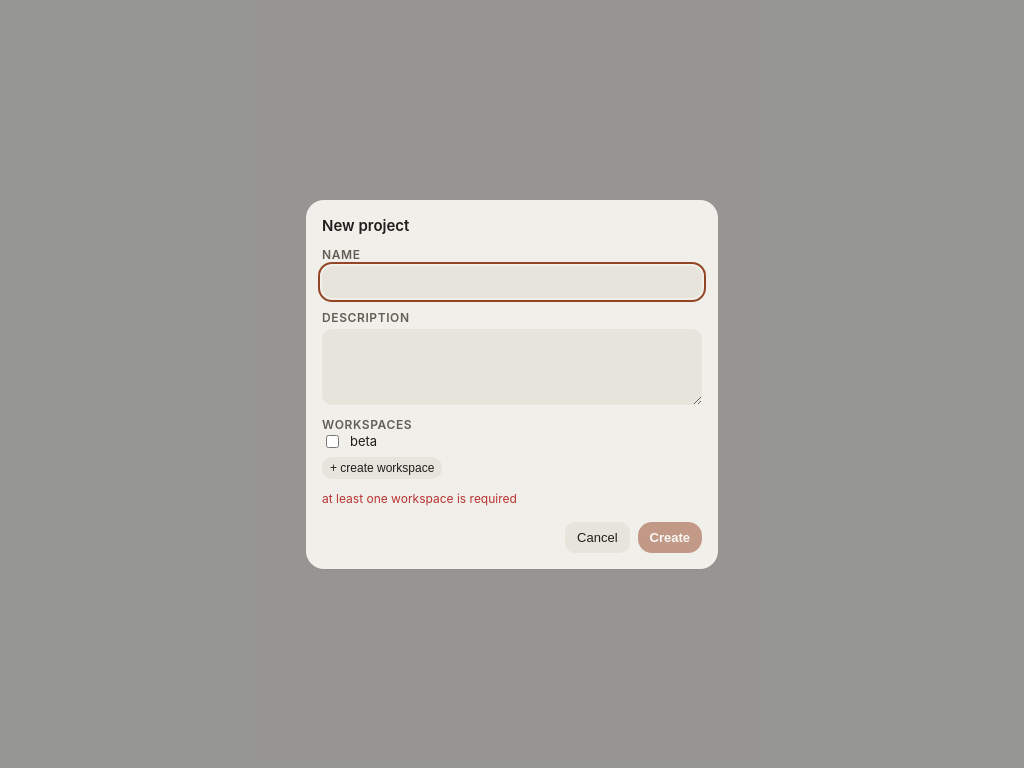
Test: CreateProjectDialog › a failed create shows the mapped error via a toast and keeps the dialog open
Type "New Proj" into the field with test id "create-project-name". click: [512, 282]
box: [322,266,702,298]
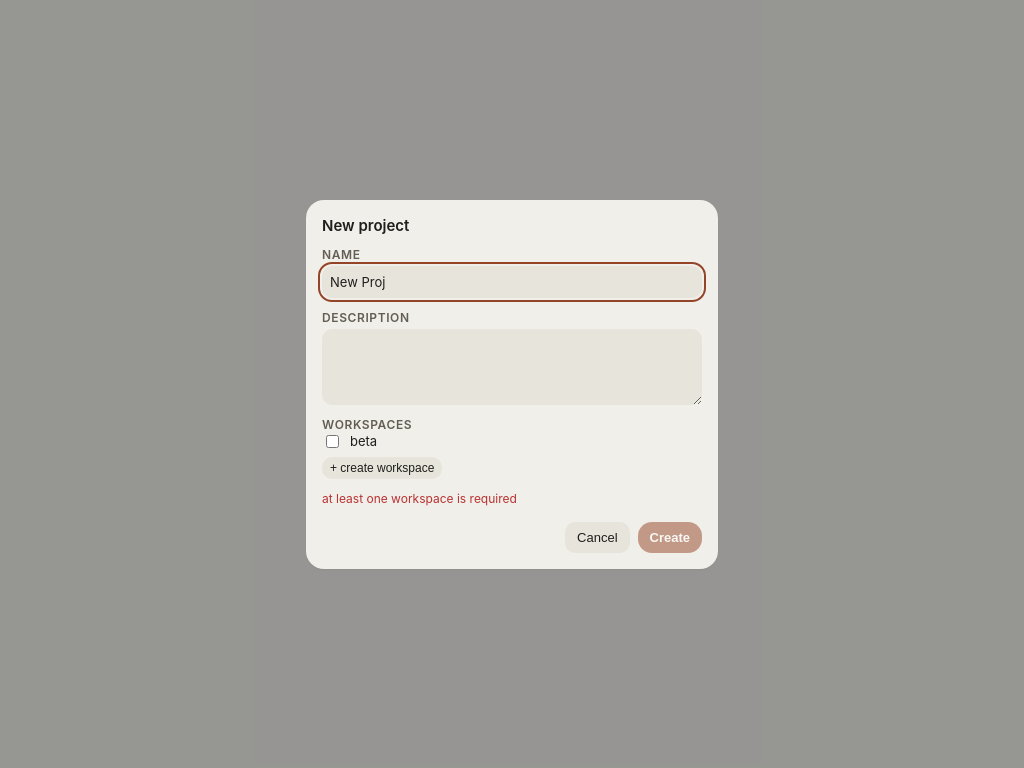
Click the checkbox with test id "create-project-ws-w2". click: [332, 441]
box: [326,434,339,448]
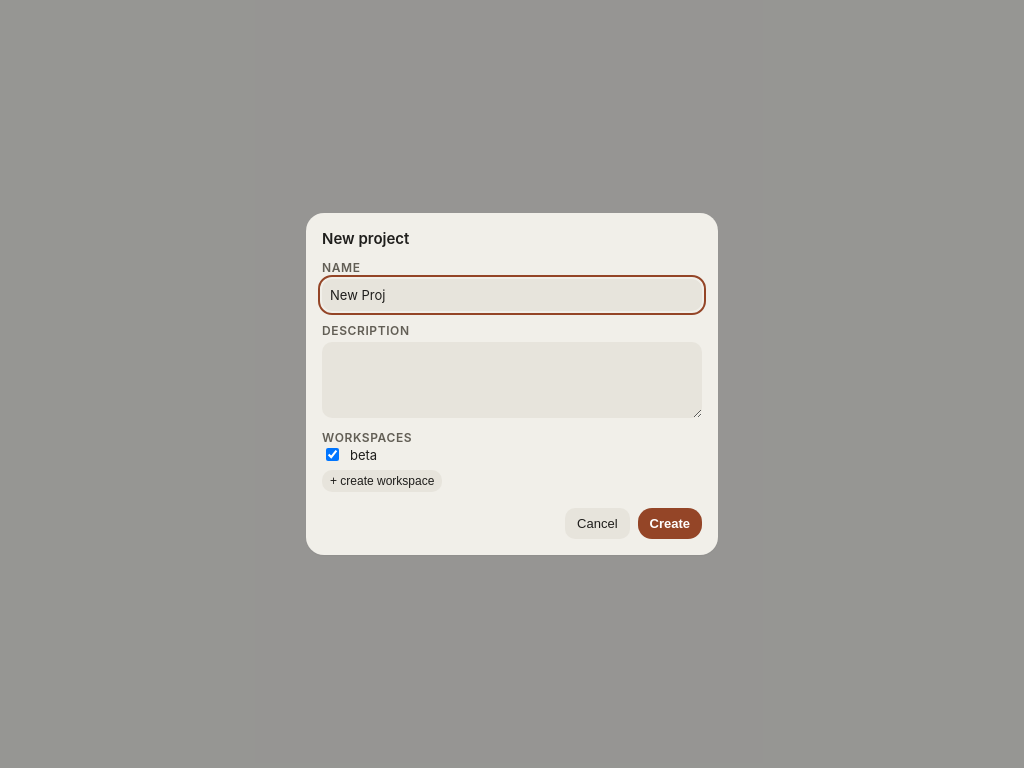
Click the button with test id "create-project-submit". click: [670, 524]
box: [638,508,702,539]
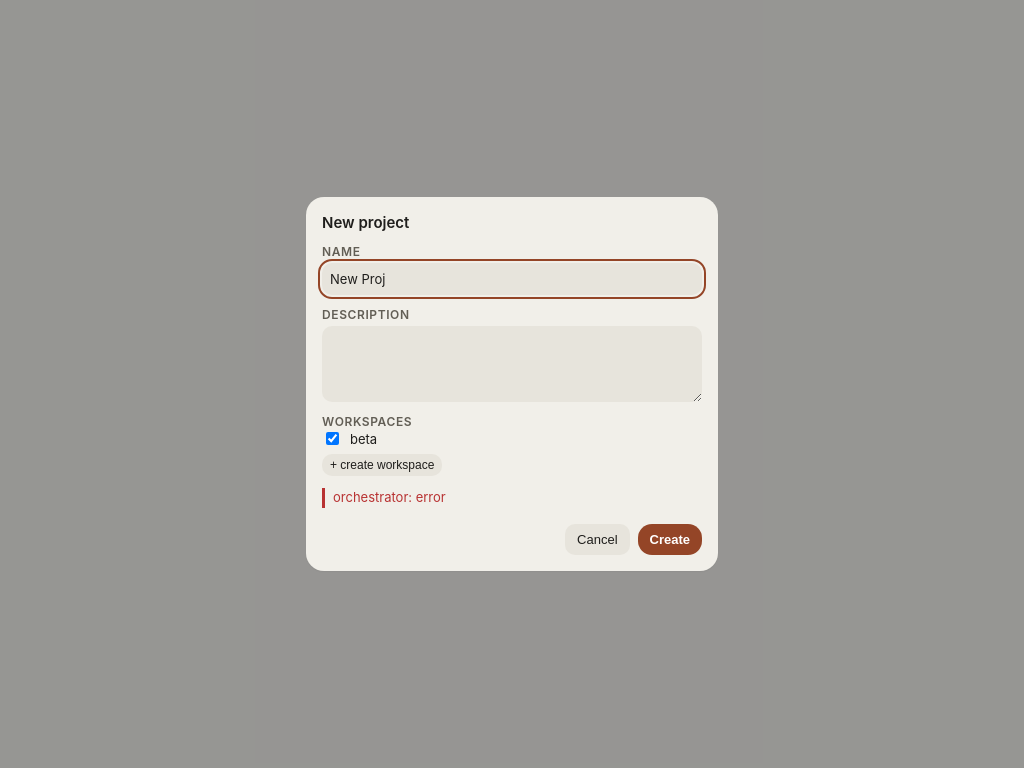
Expected: the message "orchestrator: error" is shown, [322,488,702,508]
